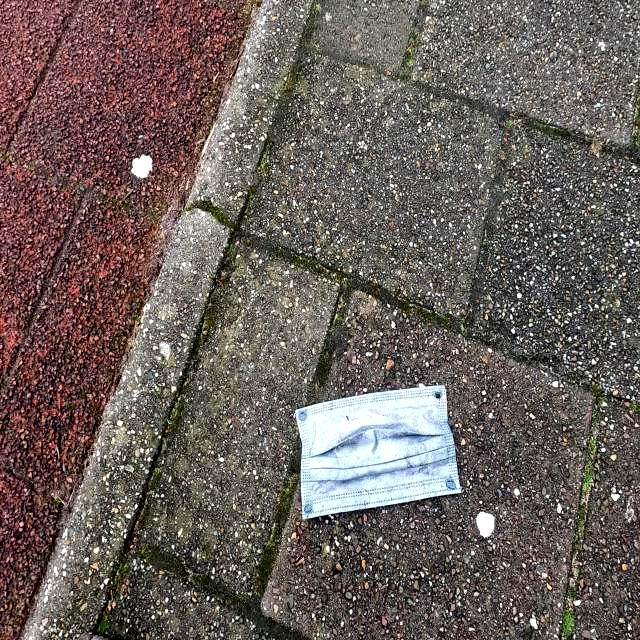Mask: (292, 382, 466, 524)
